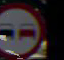No overtake: (1, 3, 47, 59)
